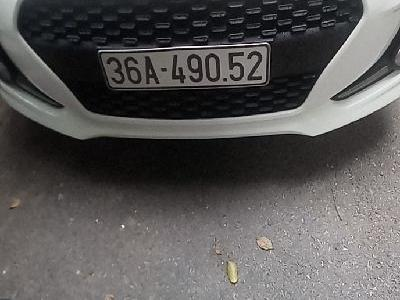number: (97, 44, 271, 89)
